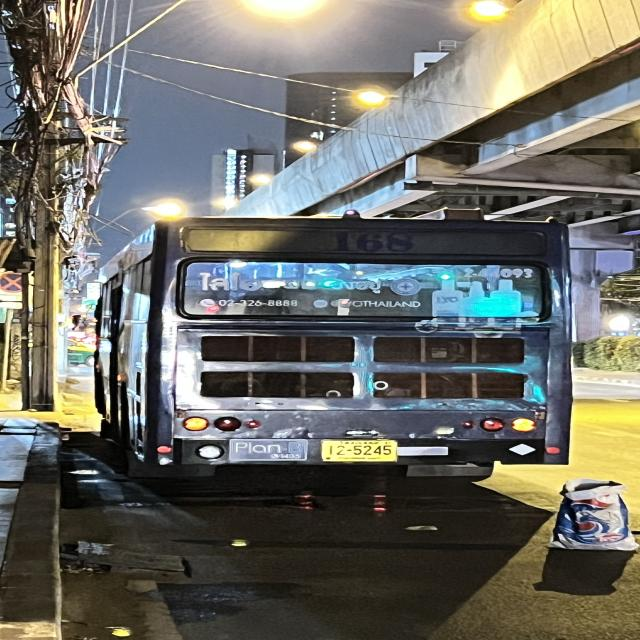BMTA-bus: (85, 207, 582, 483)
Bus-Line-Number: (322, 227, 422, 257)
